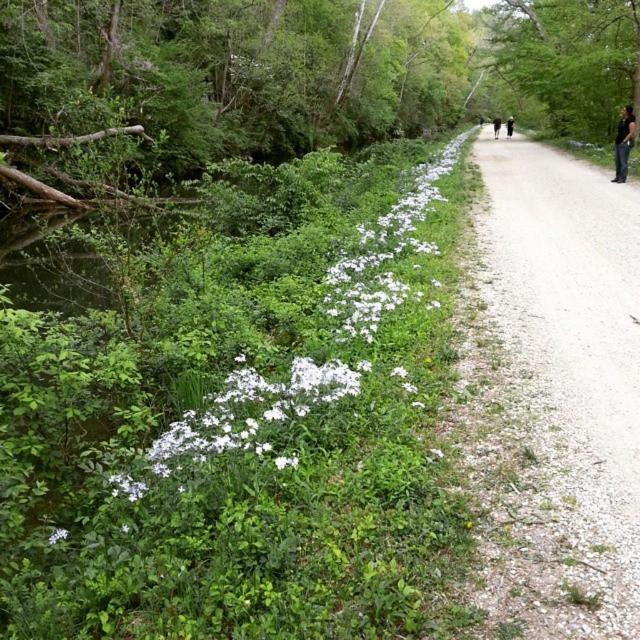Flower: (108, 122, 484, 520), (46, 528, 66, 544)
